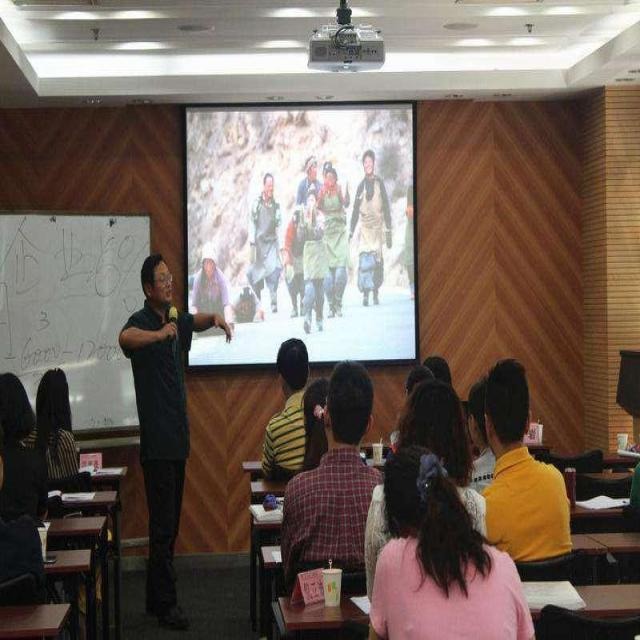no_helmet: (376, 430, 446, 538), (402, 382, 468, 472), (483, 354, 537, 458), (324, 363, 374, 449), (299, 371, 343, 449), (467, 377, 509, 456), (0, 355, 30, 434), (274, 334, 311, 397), (32, 368, 71, 427), (422, 354, 454, 407), (141, 250, 172, 304), (399, 362, 429, 416)
